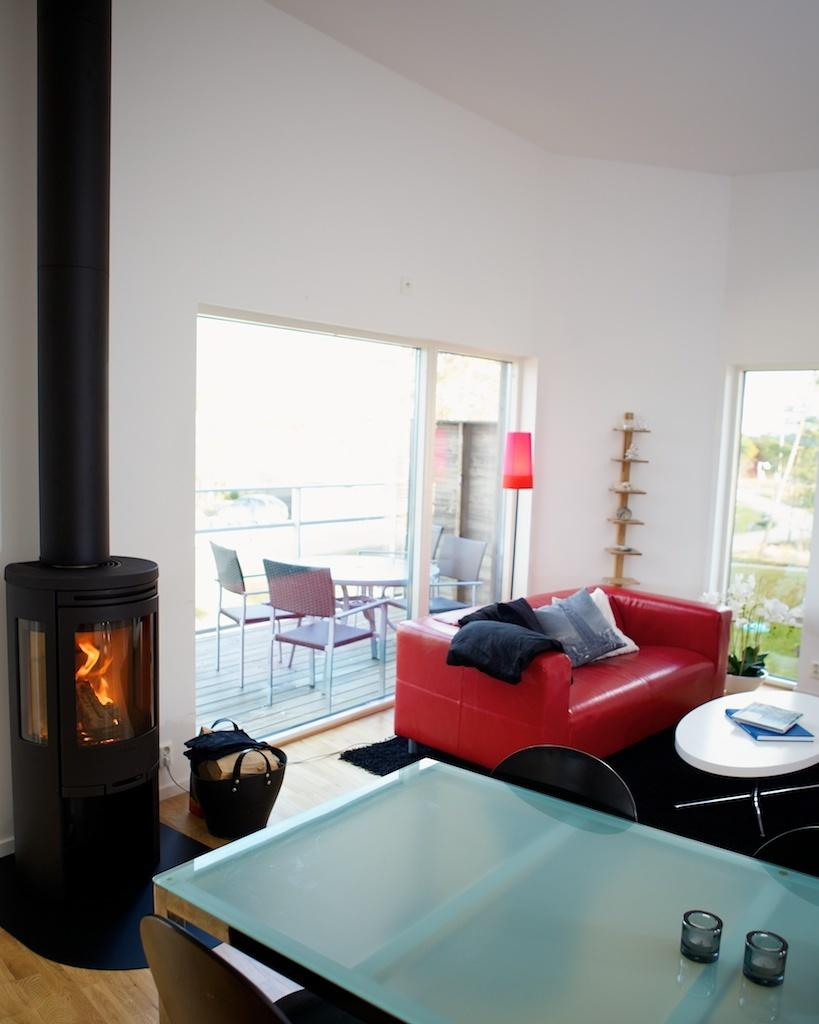Fire: (67, 603, 145, 751)
